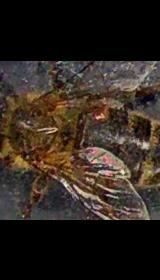varroa_mite: (92, 104, 114, 125)
